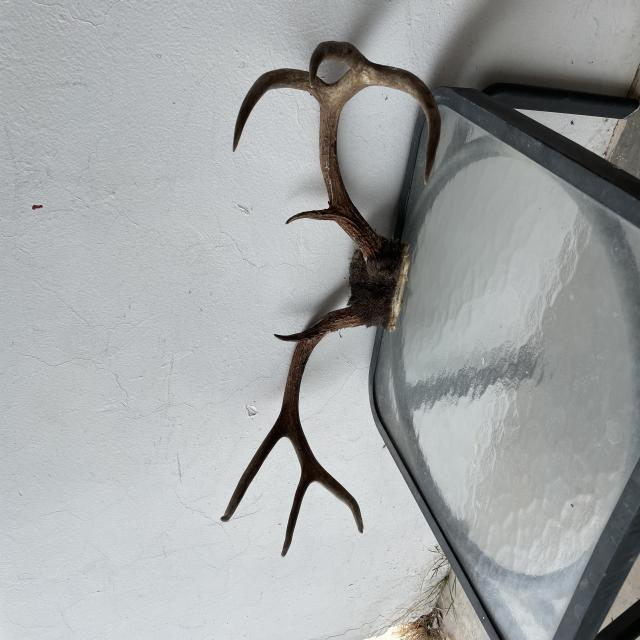L-F: (281, 426, 433, 588)
L-G1: (311, 380, 324, 448)
L-G2: (365, 310, 429, 446)
L-G3: (413, 412, 450, 492)
R-F: (79, 375, 251, 486)
R-G1: (223, 365, 234, 415)
R-G2: (88, 293, 173, 383)
R-G3: (62, 374, 127, 420)
